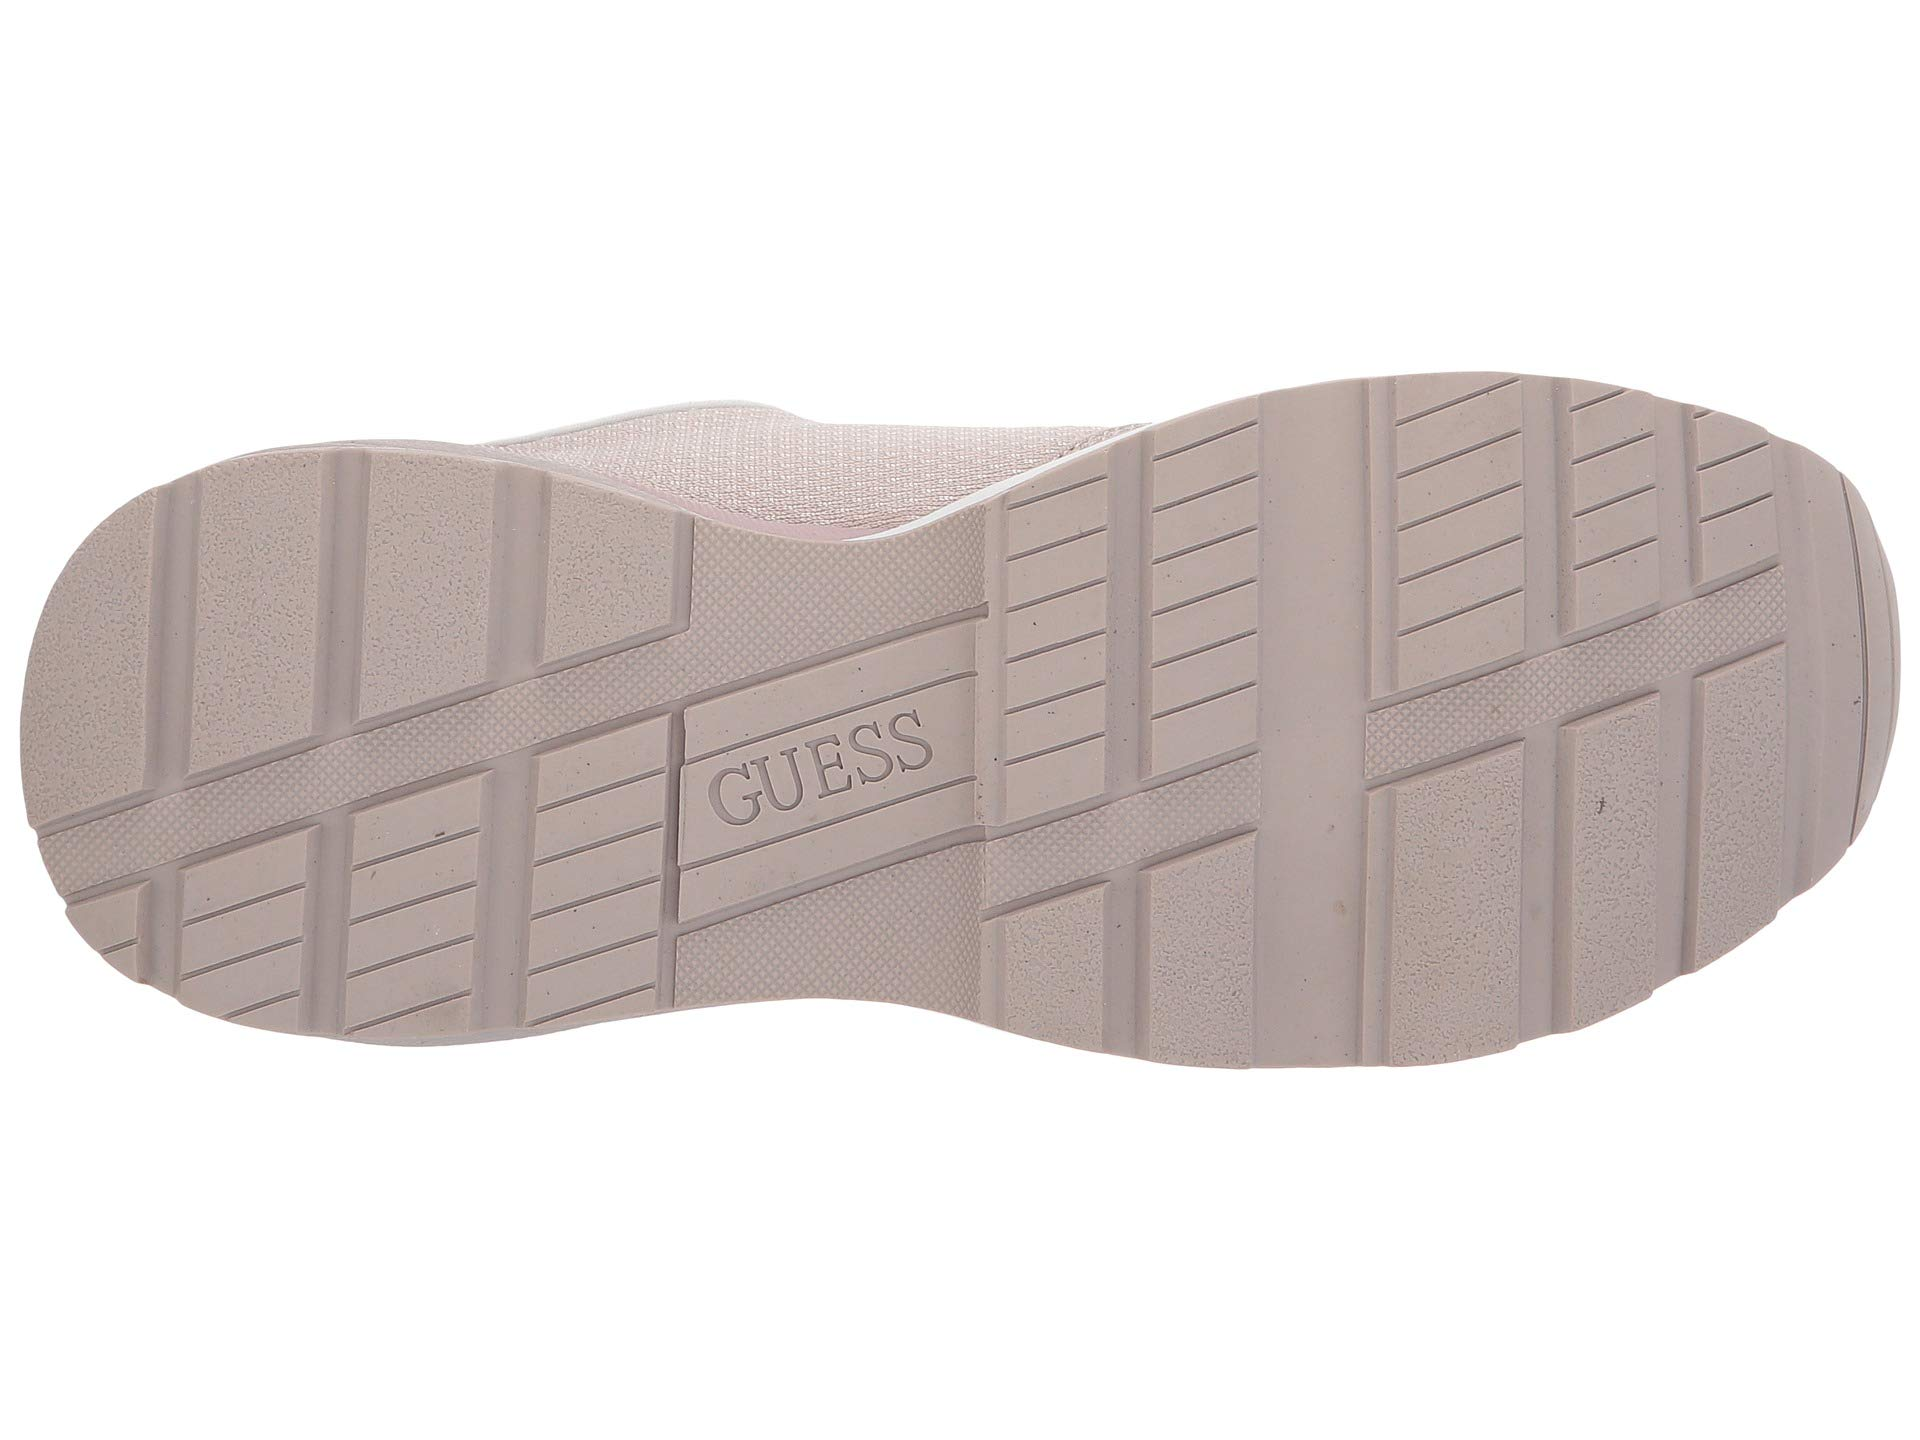quad: (981, 496, 1506, 1041), (639, 613, 996, 998)
text: (639, 613, 996, 998)
